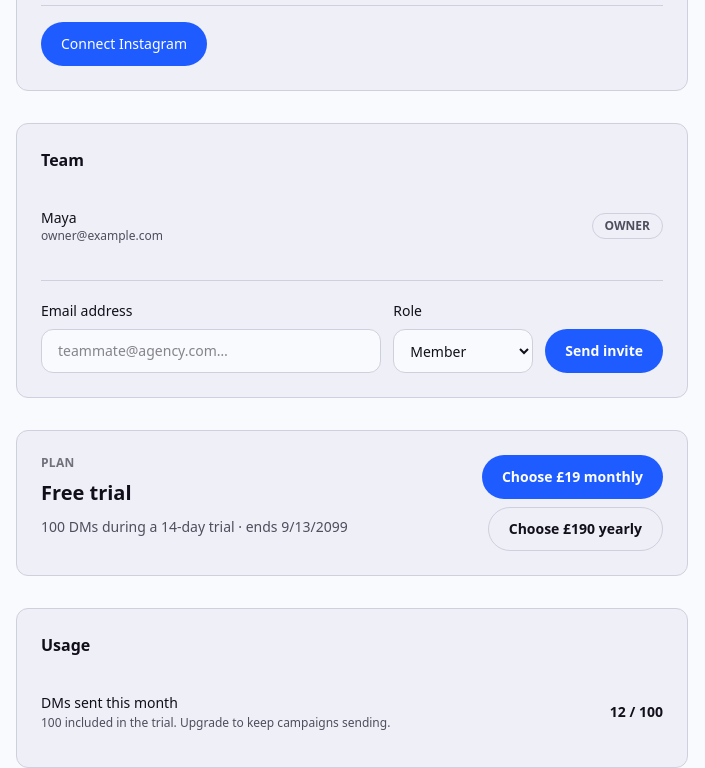
Test: settings page › keeps checkout available and explains a checkout failure
This screenshot has width=705, height=768.
(page scrolled)
Click the button "Choose £19 monthly" at (572, 477), box [482, 455, 663, 499]
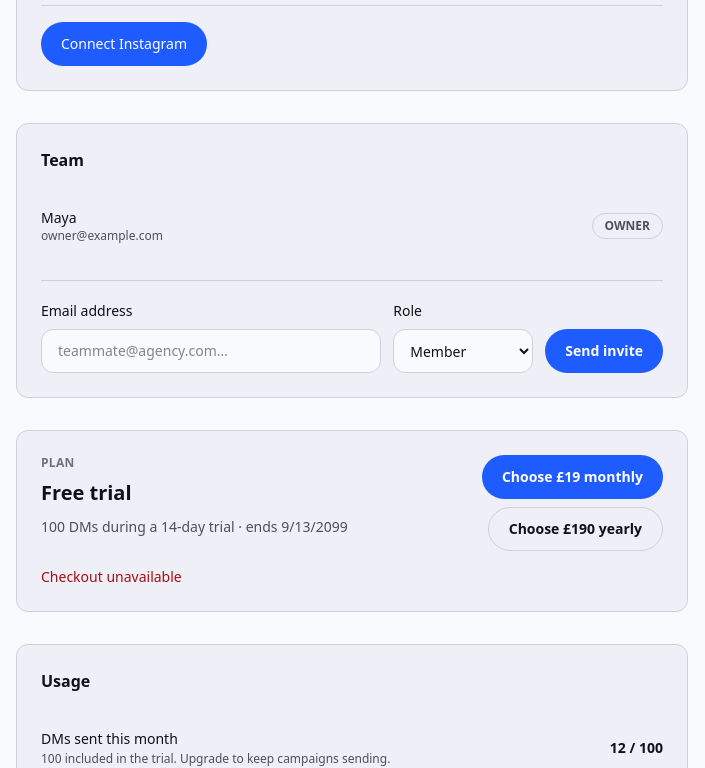
expect the message reads "Checkout unavailable": met, box [41, 567, 182, 586]
